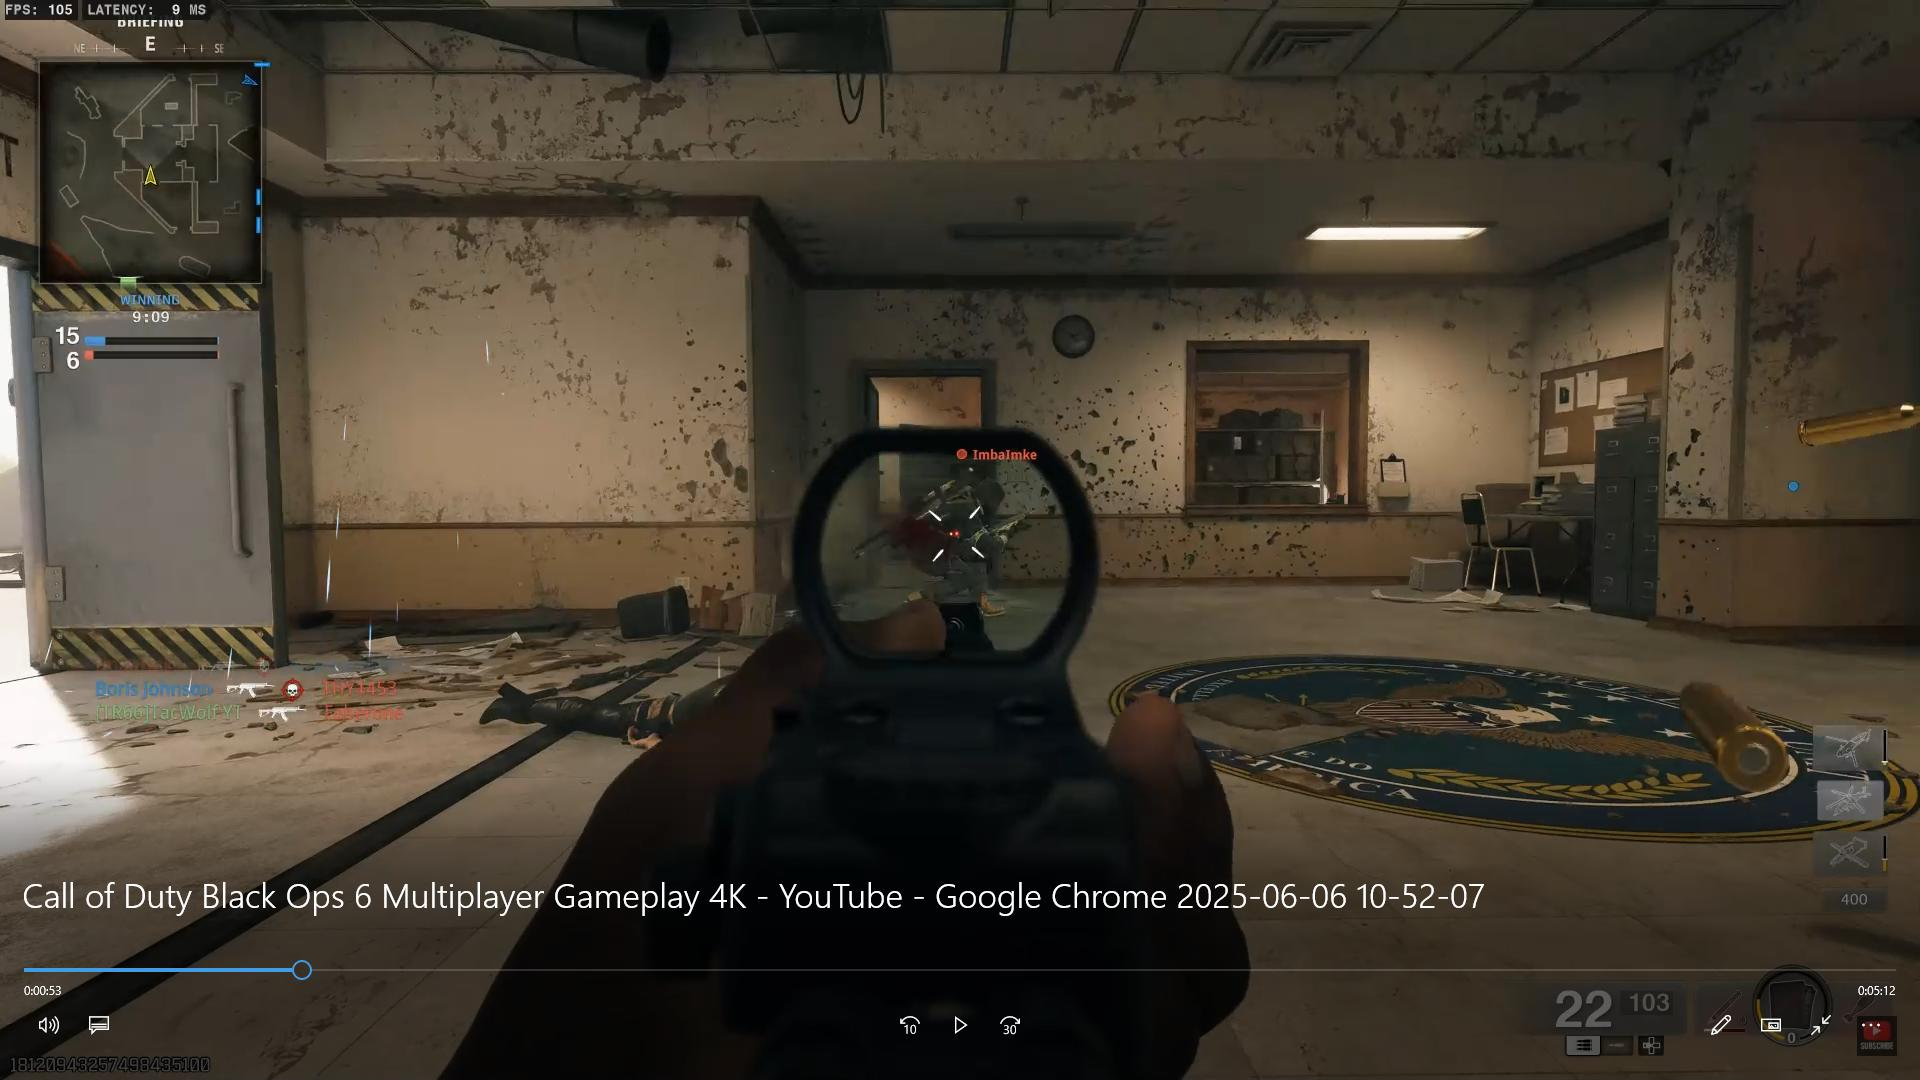Enemy: (928, 439, 1043, 612)
